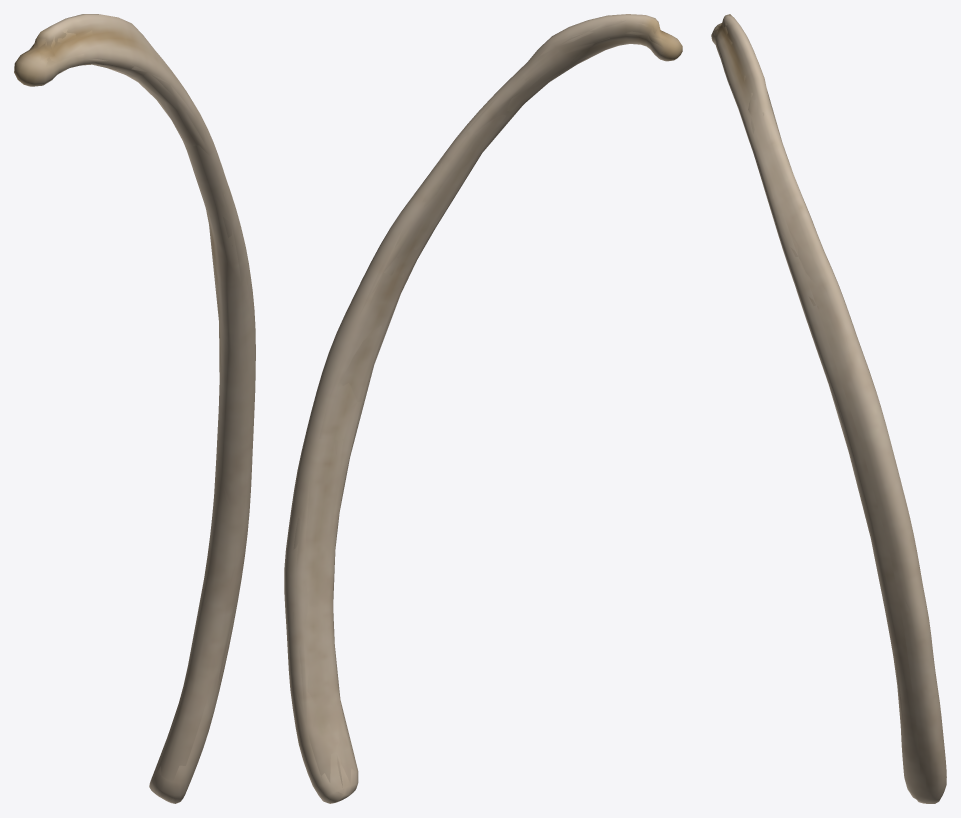
The model's file is Rib L07.fbx.
The picture shows the model from 3 angles, left to right: view 1: azimuth 30°, elevation 25°; view 2: azimuth 150°, elevation 25°; view 3: azimuth 270°, elevation 25°; orthographic projection. The views are drawn at different scales.
Parts seen in each view (by area): view 1: Rib L07 low, Rib L07; view 2: Rib L07, Rib L07 low; view 3: Rib L07, Rib L07 low.
Part boxes in pixels (box(x1,y1,x2,y2)): Rib L07 low: box(15, 15, 254, 802); Rib L07: box(14, 14, 255, 803); Rib L07: box(284, 14, 682, 803); Rib L07 low: box(286, 15, 679, 803); Rib L07: box(711, 14, 946, 803); Rib L07 low: box(713, 14, 945, 753).
Size of the model in its own units: 19.47 by 48.43 by 14.88.
Materials: 1 (1 with a texture image).
